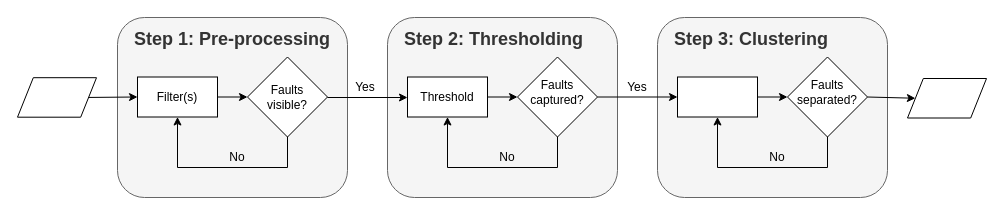
Image size: 1005x215. Some labels were removed from this diagram. The shapes that lost their labels are listed below. From the top down, each one's centre as x and y in pixels, then its label:
At (x=56, y=97): "Raster data".
At (x=717, y=96): "Classify".
At (x=946, y=98): "Fault system".
